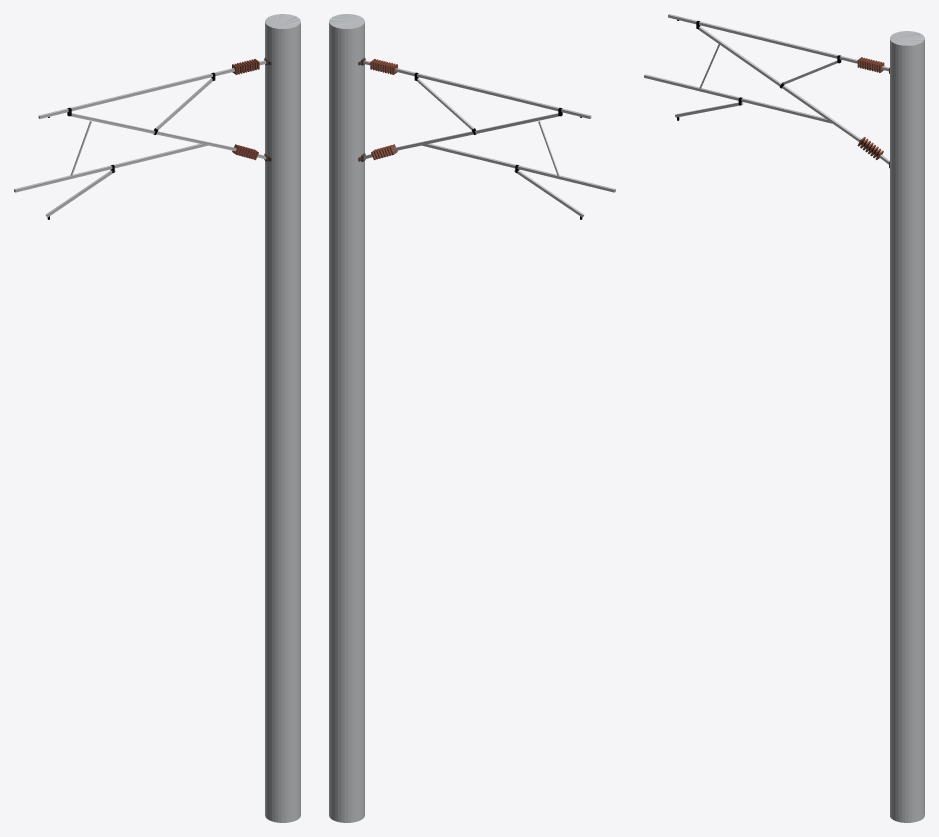
Rendered from catenary_circular.obj.
The picture shows the model from 3 angles, left to right: view 1: azimuth 30°, elevation 25°; view 2: azimuth 150°, elevation 25°; view 3: azimuth 330°, elevation 25°; orthographic projection. The views are drawn at different scales.
Parts seen in each view (by area): view 1: catenary.001; view 2: catenary.001; view 3: catenary.001.
Part boxes in pixels (x1=…): catenary.001: x1=14, y1=14, x2=300, y2=822; catenary.001: x1=329, y1=14, x2=615, y2=822; catenary.001: x1=644, y1=14, x2=924, y2=822.
Size of the model in its own units: 3.64 by 9.73 by 0.3978.
3 materials, 3 textured.
